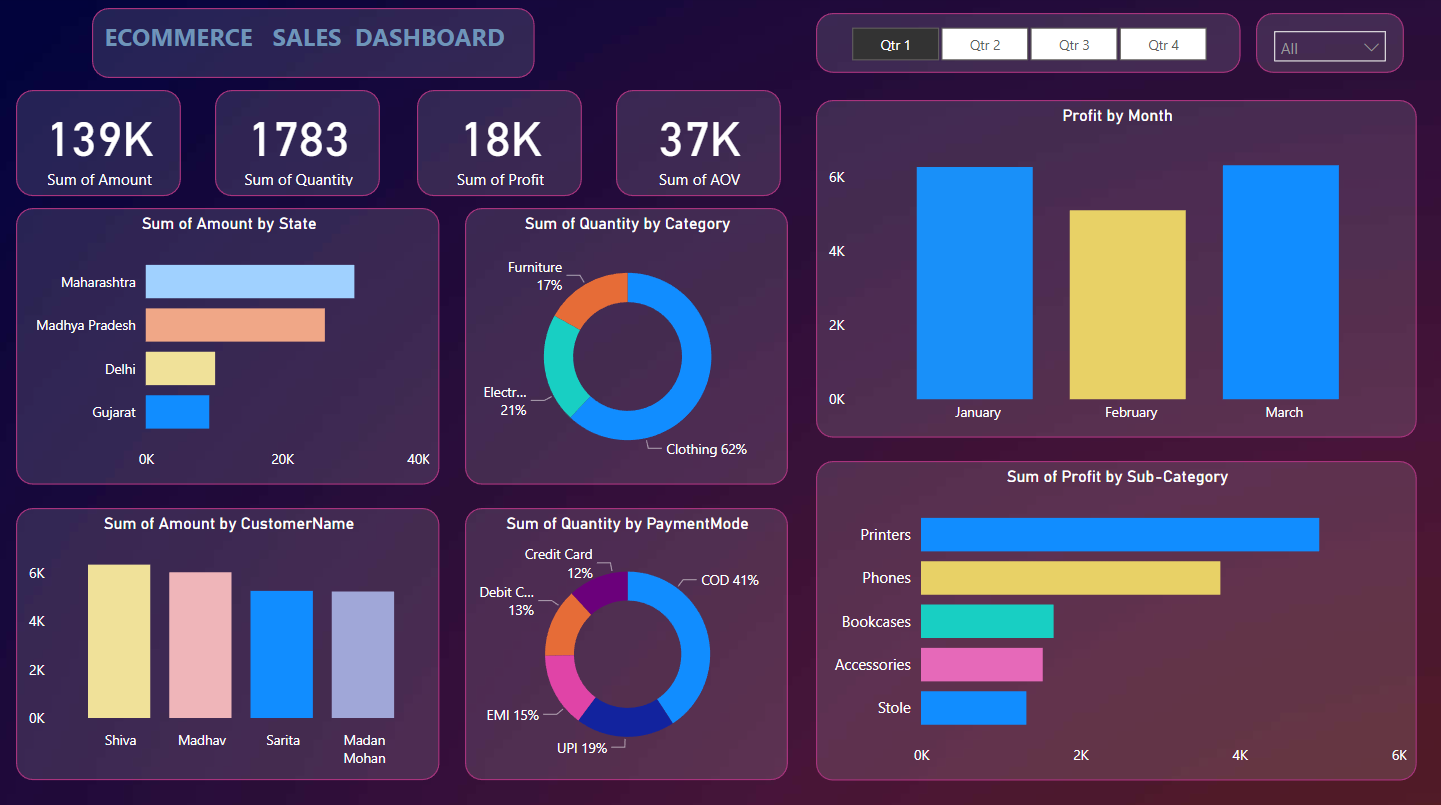

The dashboard page shown, as its layout file describes it:
{"tool":"powerbi","page":{"name":"Page 1","canvas":[1280,720],"ordinal":0},"visuals":[{"type":"textbox","box":[84.1,9.7,392.3,62],"z":0},{"type":"columnChart","title":"Profit by Month","fields":{"Y":["Details.Profit"],"Category":["Orders.Order Date.Variation.Date Hierarchy.Month"]},"box":[725.3,91.2,532.3,299.3],"z":1000},{"type":"barChart","fields":{"Category":["Details.Sub-Category"],"Y":["Details.Profit"]},"box":[725.3,410.9,532.3,282.5],"z":2000},{"type":"donutChart","fields":{"Category":["Details.Category"],"Y":["Details.Quantity"]},"box":[414.5,186.9,286.1,245.3],"z":3000},{"type":"donutChart","fields":{"Y":["Details.Quantity"],"Category":["Details.PaymentMode"]},"box":[414.5,452.5,286.1,240.9],"z":4000},{"type":"card","fields":{"Values":["Details.Amount"]},"box":[16.8,82.4,146.1,93.9],"z":5000},{"type":"card","fields":{"Values":["Details.Quantity"]},"box":[193.1,82.4,146.1,93.9],"z":6000},{"type":"card","fields":{"Values":["Details.Profit"]},"box":[372,82.4,146.1,93.9],"z":7000},{"type":"card","fields":{"Values":["Details.AOV"]},"box":[548.2,82.4,146.1,93.9],"z":8000},{"type":"barChart","fields":{"Category":["Orders.State"],"Y":["Details.Amount"]},"box":[16.8,186.9,375.5,245.3],"z":9000},{"type":"columnChart","fields":{"Category":["Orders.CustomerName"],"Y":["Details.Amount"]},"box":[16.8,452.5,375.5,240.9],"z":9001},{"type":"slicer","fields":{"Values":["Orders.Order Date.Variation.Date Hierarchy.Quarter"]},"box":[725.3,14.2,376.4,53.1],"z":9002},{"type":"slicer","fields":{"Values":["Orders.State"]},"box":[1115,14.2,131.1,53.1],"z":9003}]}

Visuals, with their boxes in screenshot pixels (x1, y1, x2, y2), scaled from the page's 1280x720 canvas onto the 1441x805 screenshot:
textbox: bbox(95, 11, 536, 80)
"Profit by Month" columnChart: bbox(817, 102, 1416, 437)
barChart - Details.Sub-Category x Details.Profit: bbox(817, 459, 1416, 775)
donutChart - Details.Category x Details.Quantity: bbox(467, 209, 789, 483)
donutChart - Details.Quantity x Details.PaymentMode: bbox(467, 506, 789, 775)
card - Details.Amount: bbox(19, 92, 183, 197)
card - Details.Quantity: bbox(217, 92, 382, 197)
card - Details.Profit: bbox(419, 92, 583, 197)
card - Details.AOV: bbox(617, 92, 782, 197)
barChart - Orders.State x Details.Amount: bbox(19, 209, 442, 483)
columnChart - Orders.CustomerName x Details.Amount: bbox(19, 506, 442, 775)
slicer - Orders.Order Date.Variation.Date Hierarchy.Quarter: bbox(817, 16, 1240, 75)
slicer - Orders.State: bbox(1255, 16, 1403, 75)
